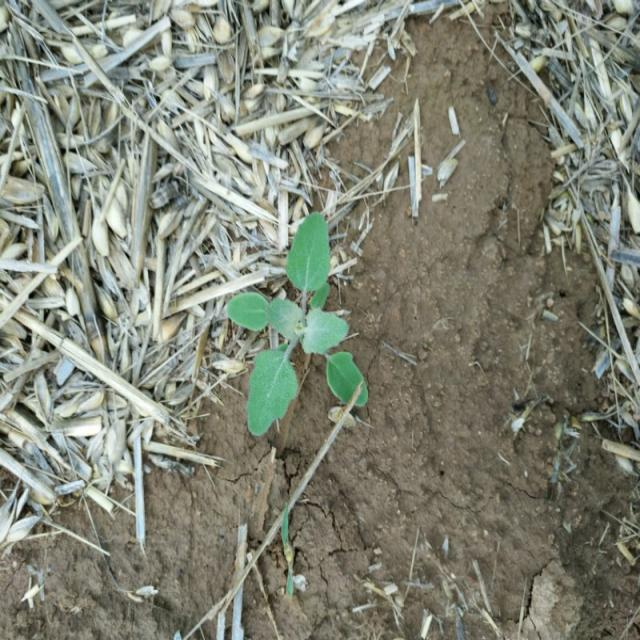goosefoots: (215, 218, 382, 444)
